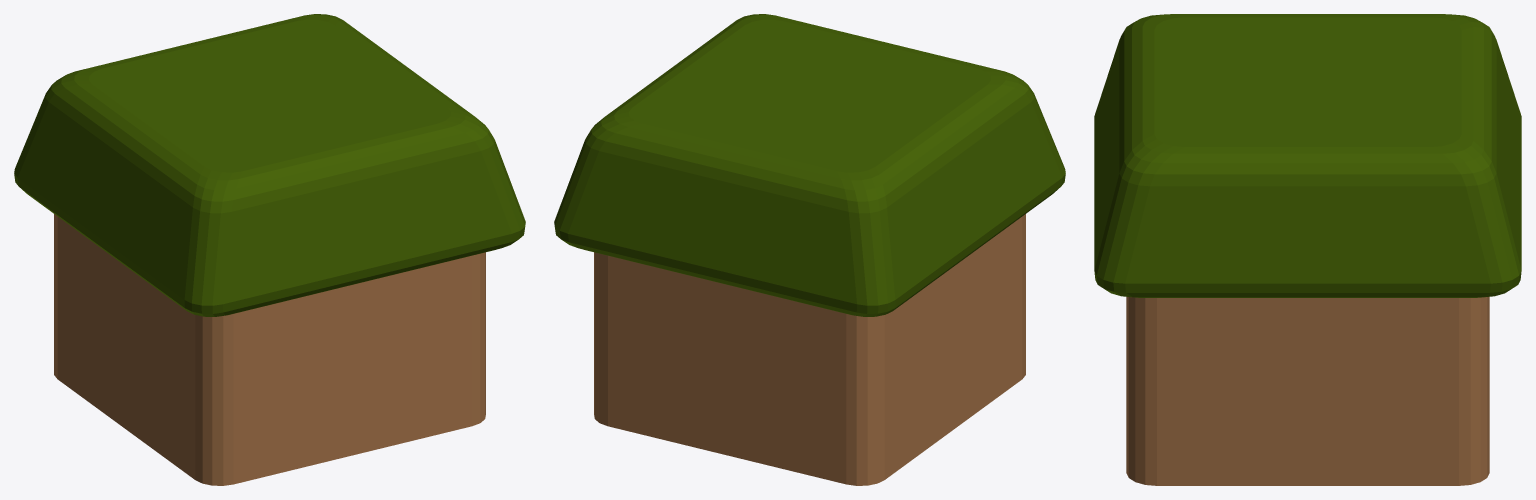
The model's file is grass.fbx.
3 views of the same model, side by side, from view 1: azimuth 30°, elevation 25°; view 2: azimuth 150°, elevation 25°; view 3: azimuth 270°, elevation 25° (orthographic). The views are drawn at different scales.
Visible parts, largest first — view 1: pCube1; view 2: pCube1; view 3: pCube1.
Boxes of the visible parts, x1=… form: pCube1: x1=14, y1=14, x2=525, y2=485; pCube1: x1=554, y1=14, x2=1065, y2=485; pCube1: x1=1094, y1=14, x2=1521, y2=485.
Size of the model in its own units: 2.35 by 1.99 by 2.35.
